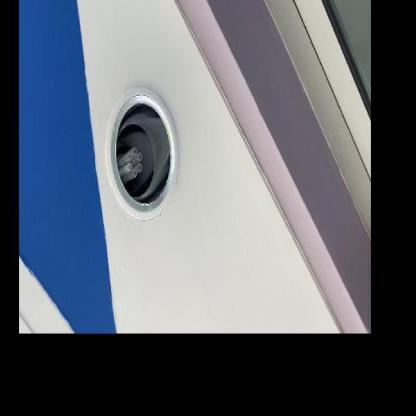light_off: (101, 58, 187, 231)
